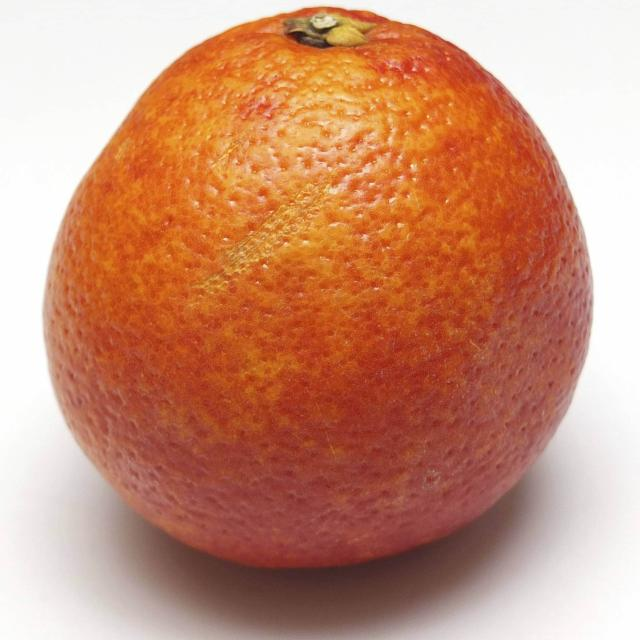Orange: (44, 10, 591, 571)
